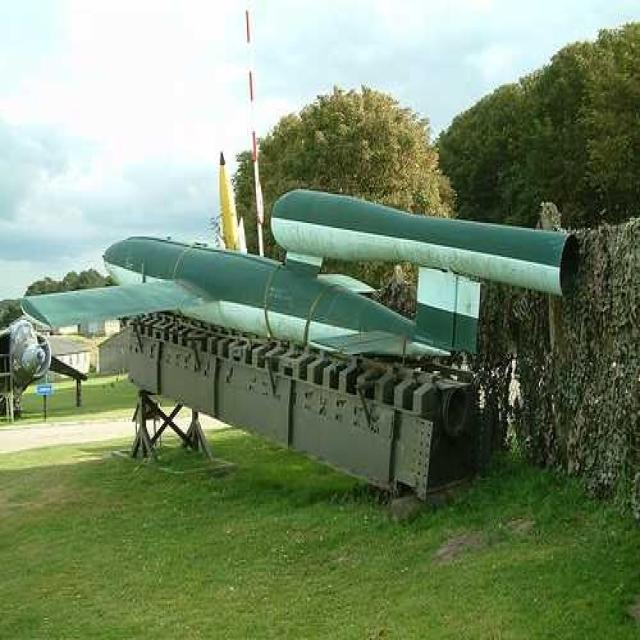missile: (21, 183, 577, 475), (18, 187, 40, 189)
